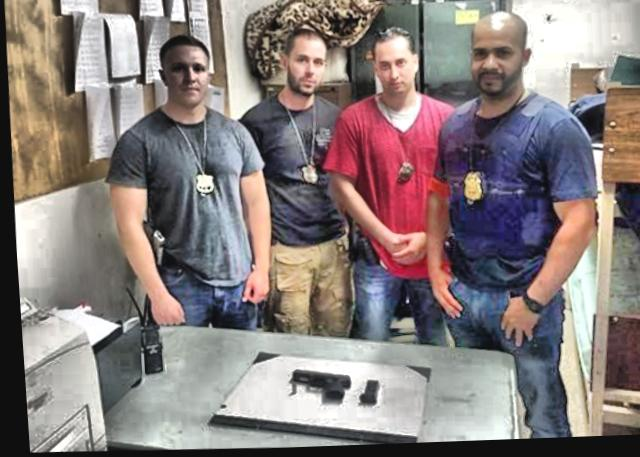pistol: (276, 364, 347, 410)
